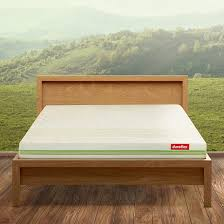bed-matress: (18, 102, 208, 161)
